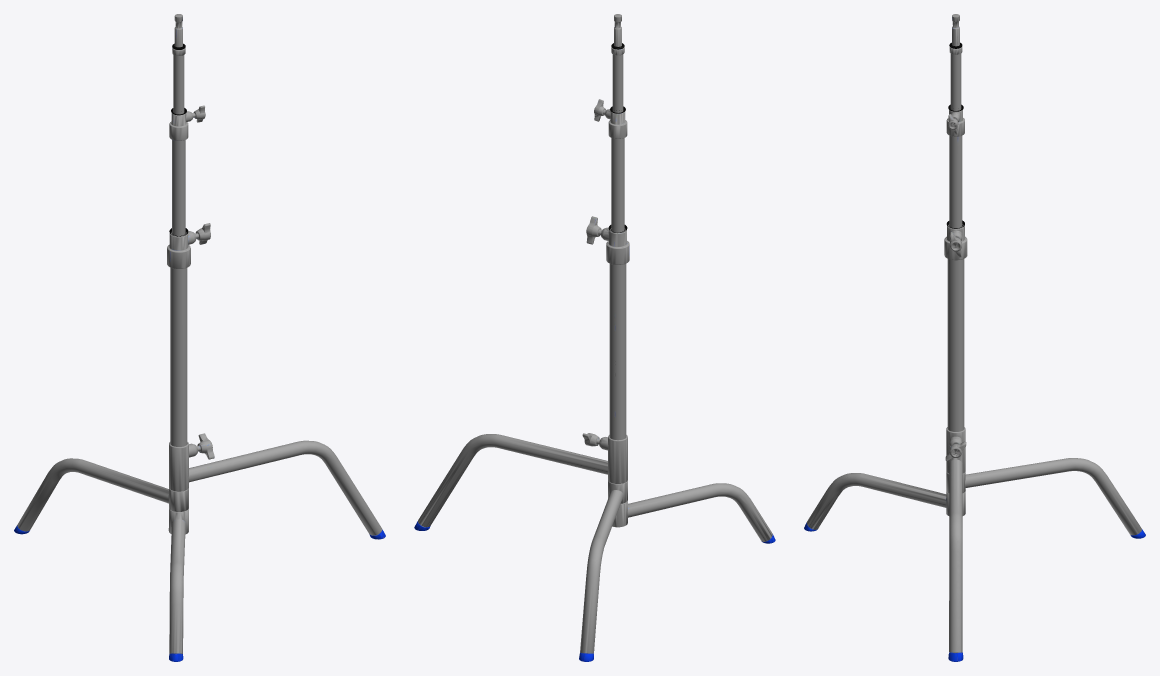
File: cstand.glb
3 renders of one model, left to right at view 1: azimuth 30°, elevation 25°; view 2: azimuth 150°, elevation 25°; view 3: azimuth 270°, elevation 25°, orthographic. The views are drawn at different scales.
Parts seen in each view (by area): view 1: C-Stand_Baked_C-Stand_Baked_0; view 2: C-Stand_Baked_C-Stand_Baked_0; view 3: C-Stand_Baked_C-Stand_Baked_0.
Boxes of the visible parts, x1=… form: C-Stand_Baked_C-Stand_Baked_0: x1=14, y1=14, x2=385, y2=661; C-Stand_Baked_C-Stand_Baked_0: x1=414, y1=14, x2=775, y2=661; C-Stand_Baked_C-Stand_Baked_0: x1=804, y1=14, x2=1145, y2=661.
Size of the model in its own units: 0.5458 by 1.03 by 0.5772.
Materials: 1 (1 with a texture image).
